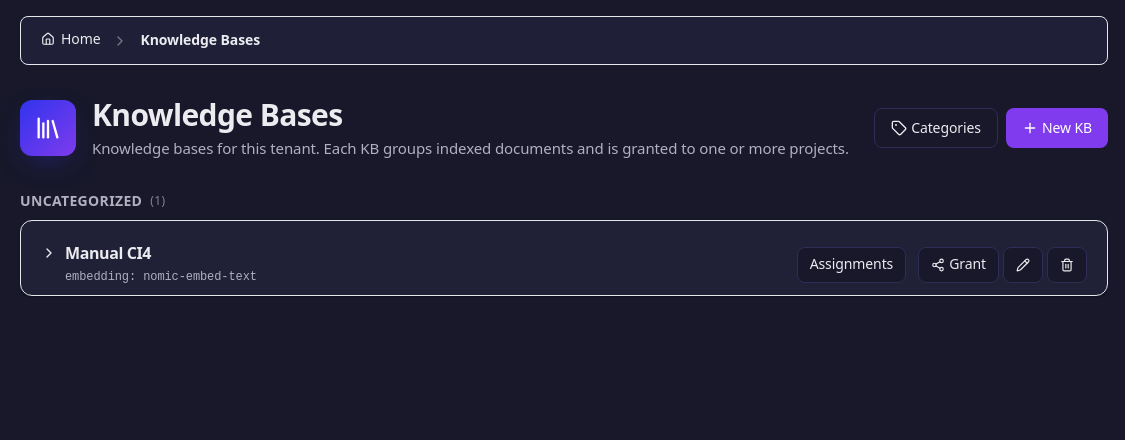
Test: knowledge-bases en inglés › traduce el panel de documentos que cuelga de la fila
The image size is (1125, 440).
Click the button with test id "kb-toggle-docs-kb-1": (108, 253) left=41, top=241, right=785, bottom=287
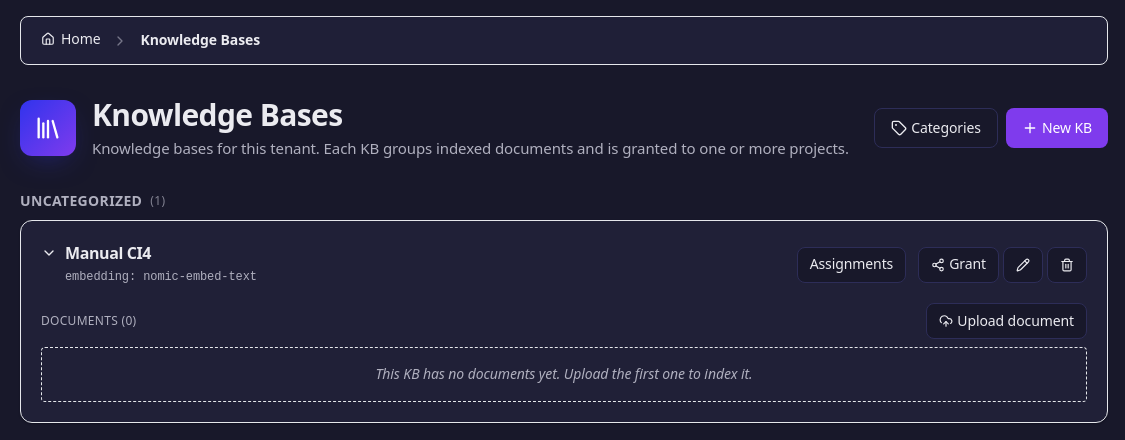
Expected: the element with test id "kb-docs-panel-kb-1" is shown, left=41, top=303, right=1087, bottom=402
Expected: the text "Documents (0)" is shown, left=41, top=312, right=136, bottom=330
Expected: the button "Upload document" is shown, left=926, top=303, right=1087, bottom=339
